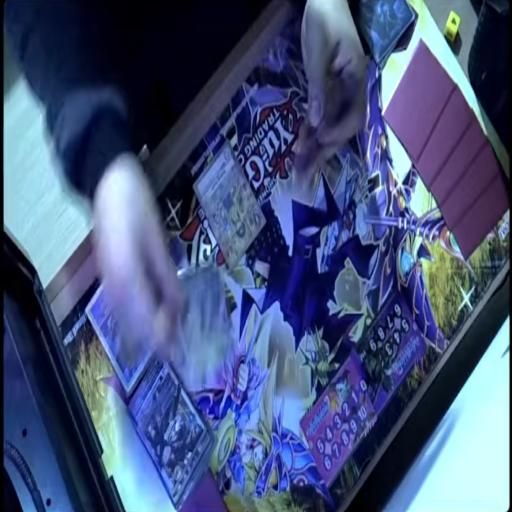card: (128, 347, 210, 496), (192, 136, 267, 276), (84, 276, 157, 388), (351, 0, 415, 68)
